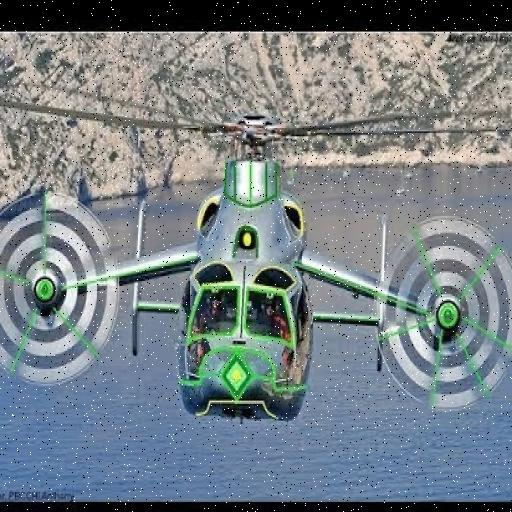helicopter: (1, 76, 512, 451)
